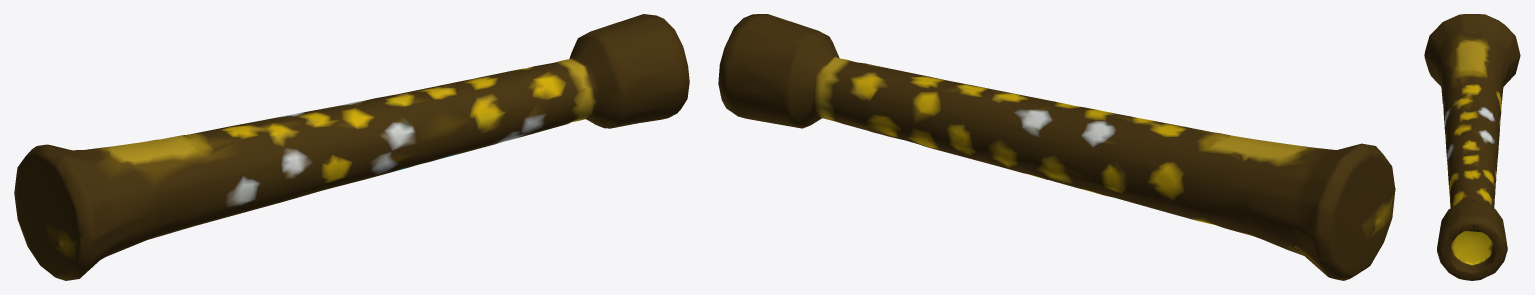
File: gen3d-didgeridoo-lod0.glb
The picture shows the model from 3 angles, left to right: view 1: azimuth 30°, elevation 25°; view 2: azimuth 150°, elevation 25°; view 3: azimuth 270°, elevation 25°; orthographic projection. The views are drawn at different scales.
Visible parts, largest first — view 1: part_0; view 2: part_0; view 3: part_0.
Boxes of the visible parts, x1,y1,x2,y2 form: part_0: [14, 14, 689, 280]; part_0: [718, 14, 1395, 280]; part_0: [1424, 14, 1520, 280].
Size of the model in its own units: 5.22 by 0.9969 by 1.06.
